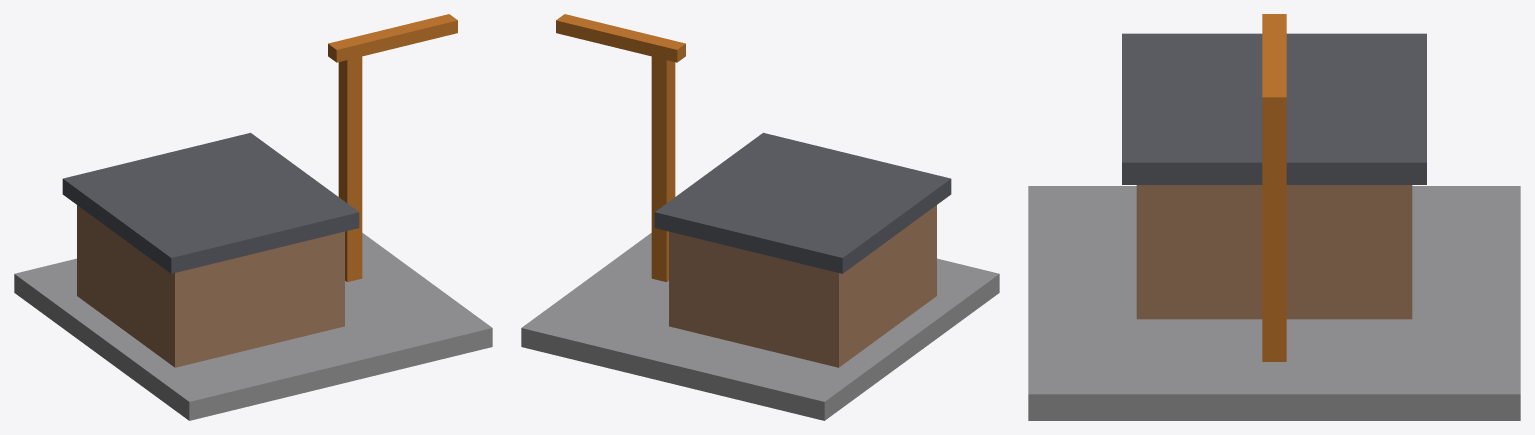
The model's file is port_1995.glb.
3 views of the same model, side by side, from view 1: azimuth 30°, elevation 25°; view 2: azimuth 150°, elevation 25°; view 3: azimuth 270°, elevation 25° (orthographic). The views are drawn at different scales.
Parts seen in each view (by area): view 1: Quay, Warehouse, WarehouseRoof, CraneMast, CraneJib; view 2: Quay, Warehouse, WarehouseRoof, CraneMast, CraneJib; view 3: Quay, WarehouseRoof, Warehouse, CraneMast, CraneJib.
Boxes of the visible parts, bbox=[...] form: Quay: bbox=[14, 233, 492, 420]; Warehouse: bbox=[77, 205, 344, 367]; WarehouseRoof: bbox=[62, 132, 359, 273]; CraneMast: bbox=[338, 40, 362, 281]; CraneJib: bbox=[328, 14, 457, 62]; Quay: bbox=[521, 233, 999, 420]; Warehouse: bbox=[669, 205, 936, 367]; WarehouseRoof: bbox=[654, 132, 951, 273]; CraneMast: bbox=[651, 39, 675, 281]; CraneJib: bbox=[556, 14, 685, 62]; Quay: bbox=[1028, 186, 1520, 420]; WarehouseRoof: bbox=[1122, 33, 1426, 184]; Warehouse: bbox=[1136, 185, 1412, 319]; CraneMast: bbox=[1262, 21, 1286, 361]; CraneJib: bbox=[1262, 14, 1286, 114].
Size of the model in its own units: 1.16 by 0.8 by 1.
